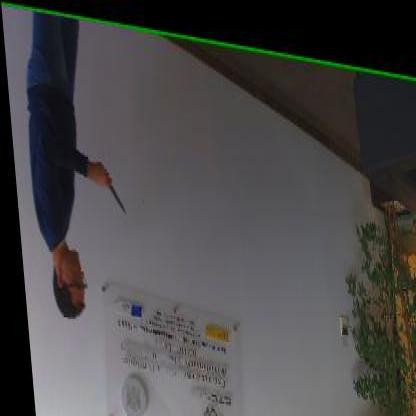knife: (95, 155, 124, 212)
